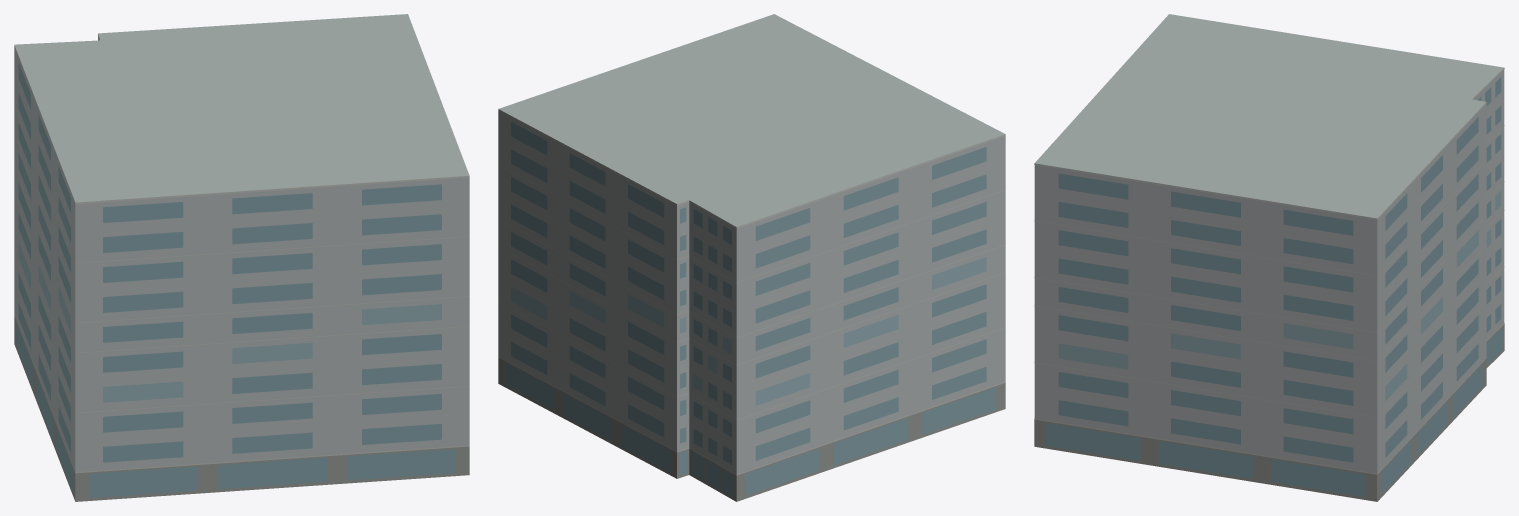
The model's file is survey-upis-32989593.glb.
3 views of the same model, side by side, from view 1: azimuth 30°, elevation 25°; view 2: azimuth 150°, elevation 25°; view 3: azimuth 270°, elevation 25° (orthographic). The views are drawn at different scales.
Visible parts, largest first — view 1: survey-upis-32989593.tmp; view 2: survey-upis-32989593.tmp; view 3: survey-upis-32989593.tmp.
Part boxes in pixels (x1=…): survey-upis-32989593.tmp: x1=14, y1=14, x2=469, y2=501; survey-upis-32989593.tmp: x1=498, y1=14, x2=1005, y2=501; survey-upis-32989593.tmp: x1=1034, y1=14, x2=1504, y2=501.
Bounding box in the file's own units: 58.82 × 38 × 57.13.
